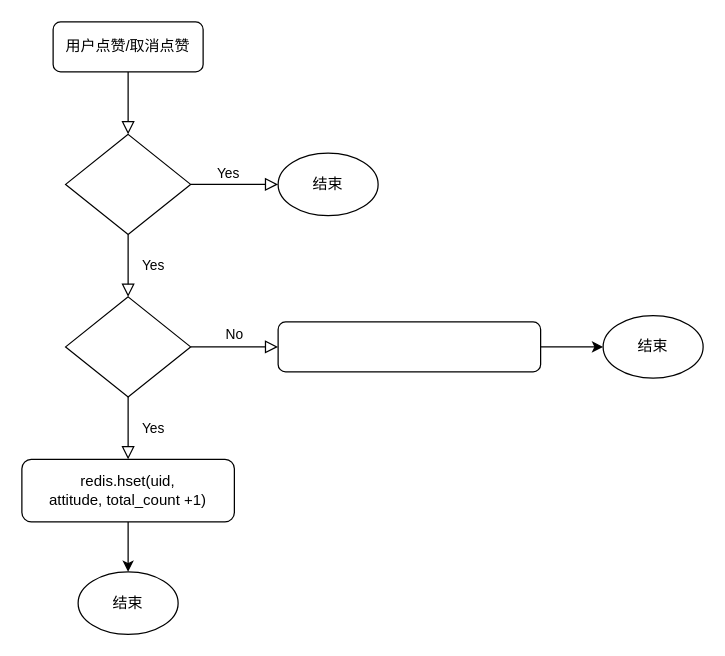
Some shapes in this 725 by 656 pixel diagram are drawn without their labels. The shapes that lost their labels are listed below. From the top down, each one's centre as x and y in pixels, then its label:
the point at 127,183: 还未洗过数据
the point at 127,346: 洗完了吗？
the point at 409,346: redisSnapshot.hset(uid, mid_attitude, current_count)
